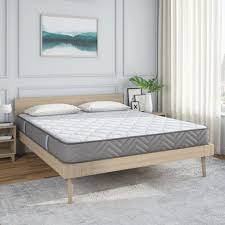bed-matress: (16, 105, 211, 163)
